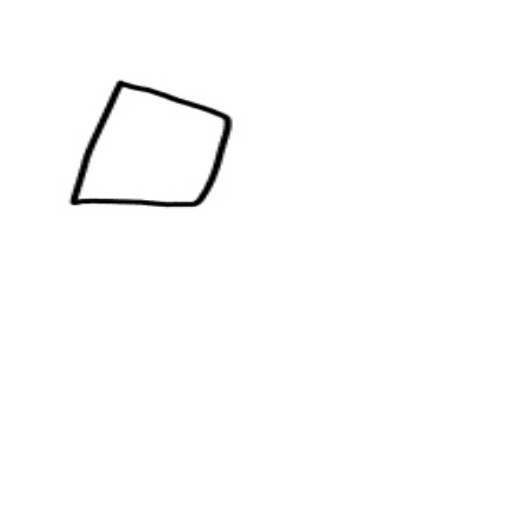square: (65, 76, 238, 213)
